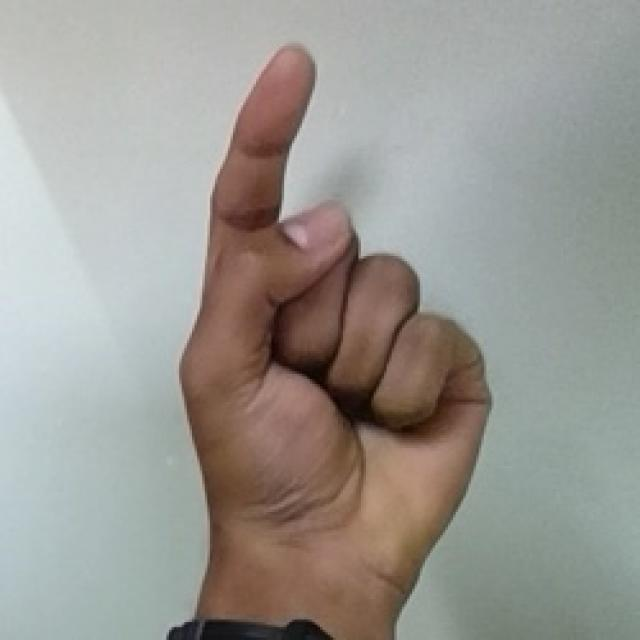Numeric-1: (177, 44, 492, 620)
